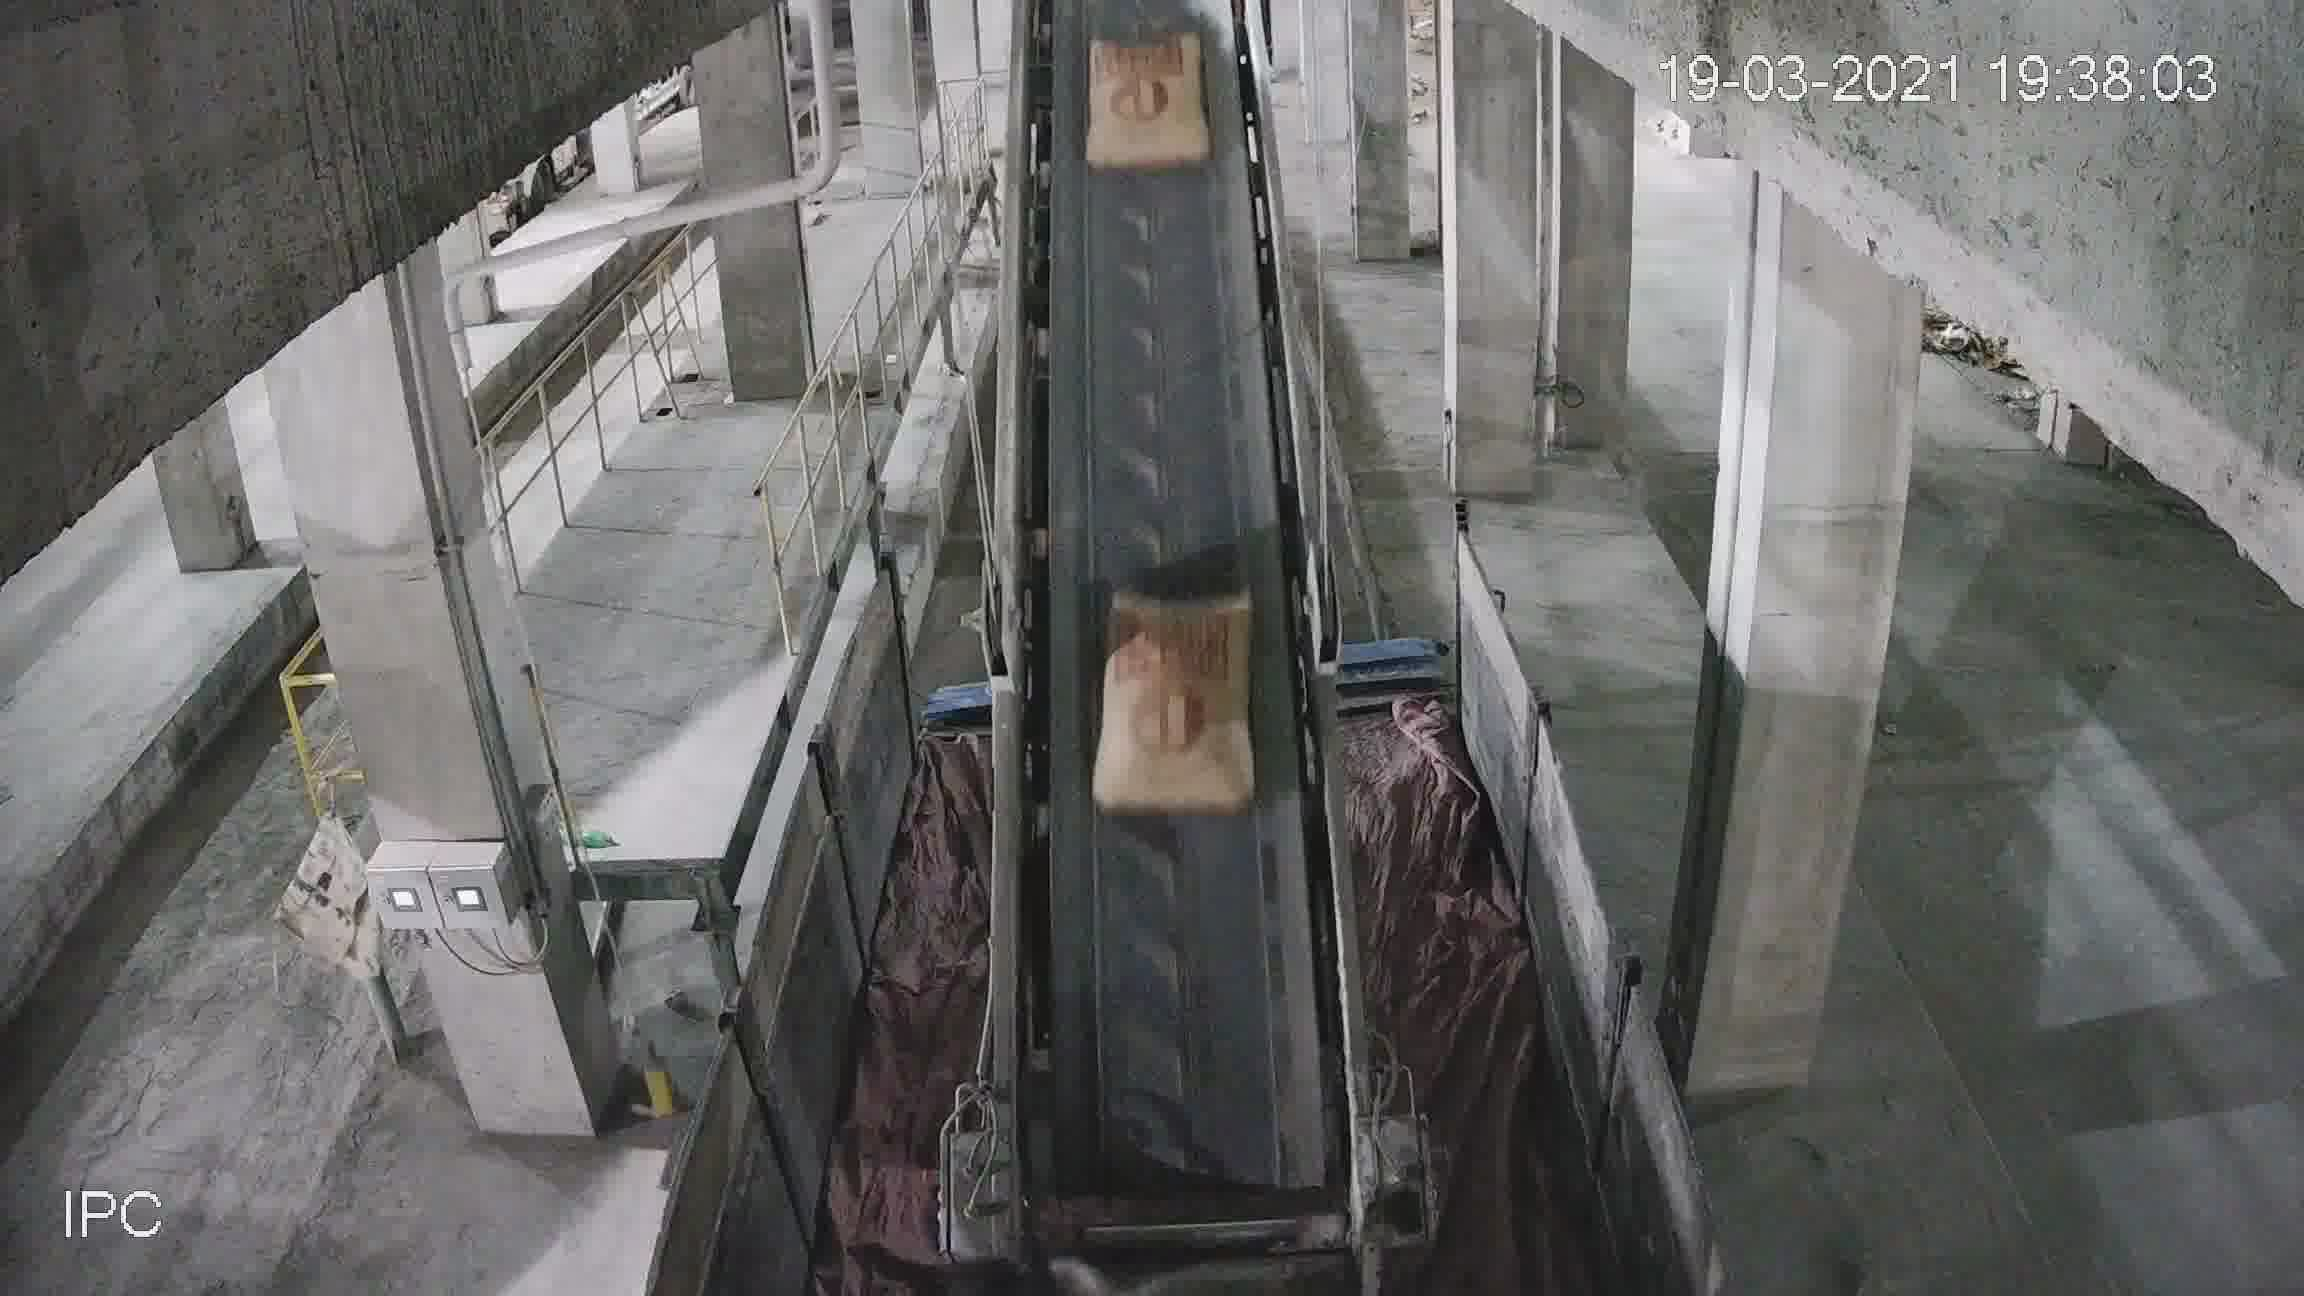bag: (1100, 601, 1256, 828), (1084, 33, 1211, 166)
belt: (992, 62, 1350, 1165)
